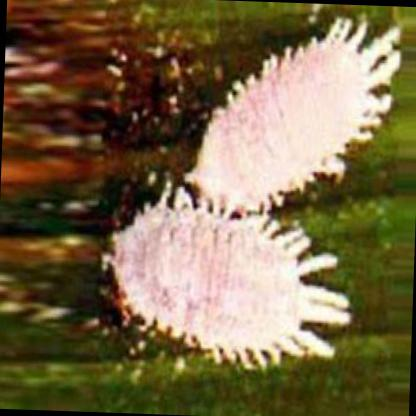mealy bug: (196, 33, 398, 215), (113, 204, 348, 357)
